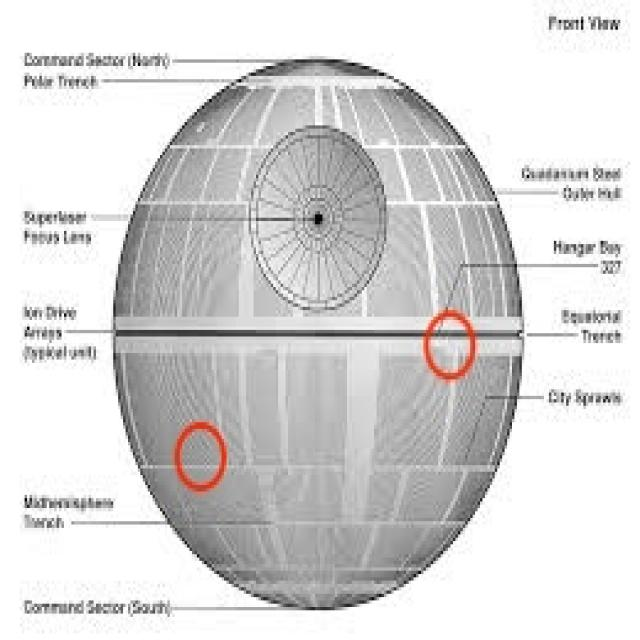deathStar: (115, 63, 520, 607)
